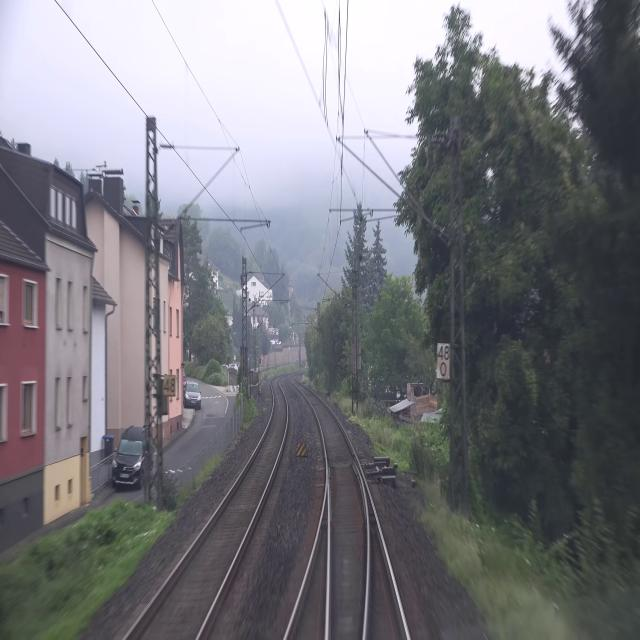rail-track: (128, 380, 285, 639), (303, 389, 364, 639), (368, 507, 405, 639), (288, 513, 325, 639)
